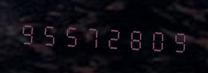eight: (122, 20, 142, 54)
five: (38, 16, 58, 50), (59, 17, 79, 51)
nine: (17, 15, 37, 49), (164, 23, 184, 57)
seven: (80, 18, 100, 52)
two: (101, 19, 121, 53)
zero: (143, 22, 163, 56)
